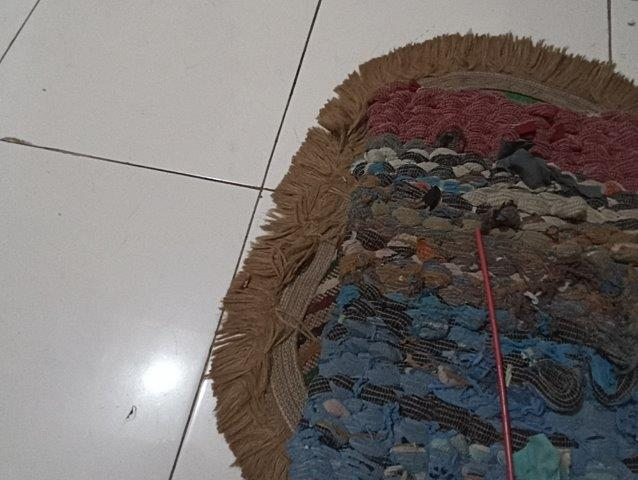sedotan: (476, 231, 515, 477)
